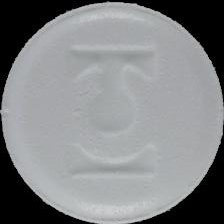63459-542: (0, 0, 224, 224)
